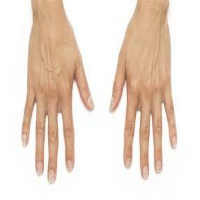ring: (149, 96, 168, 180), (34, 95, 47, 176)
